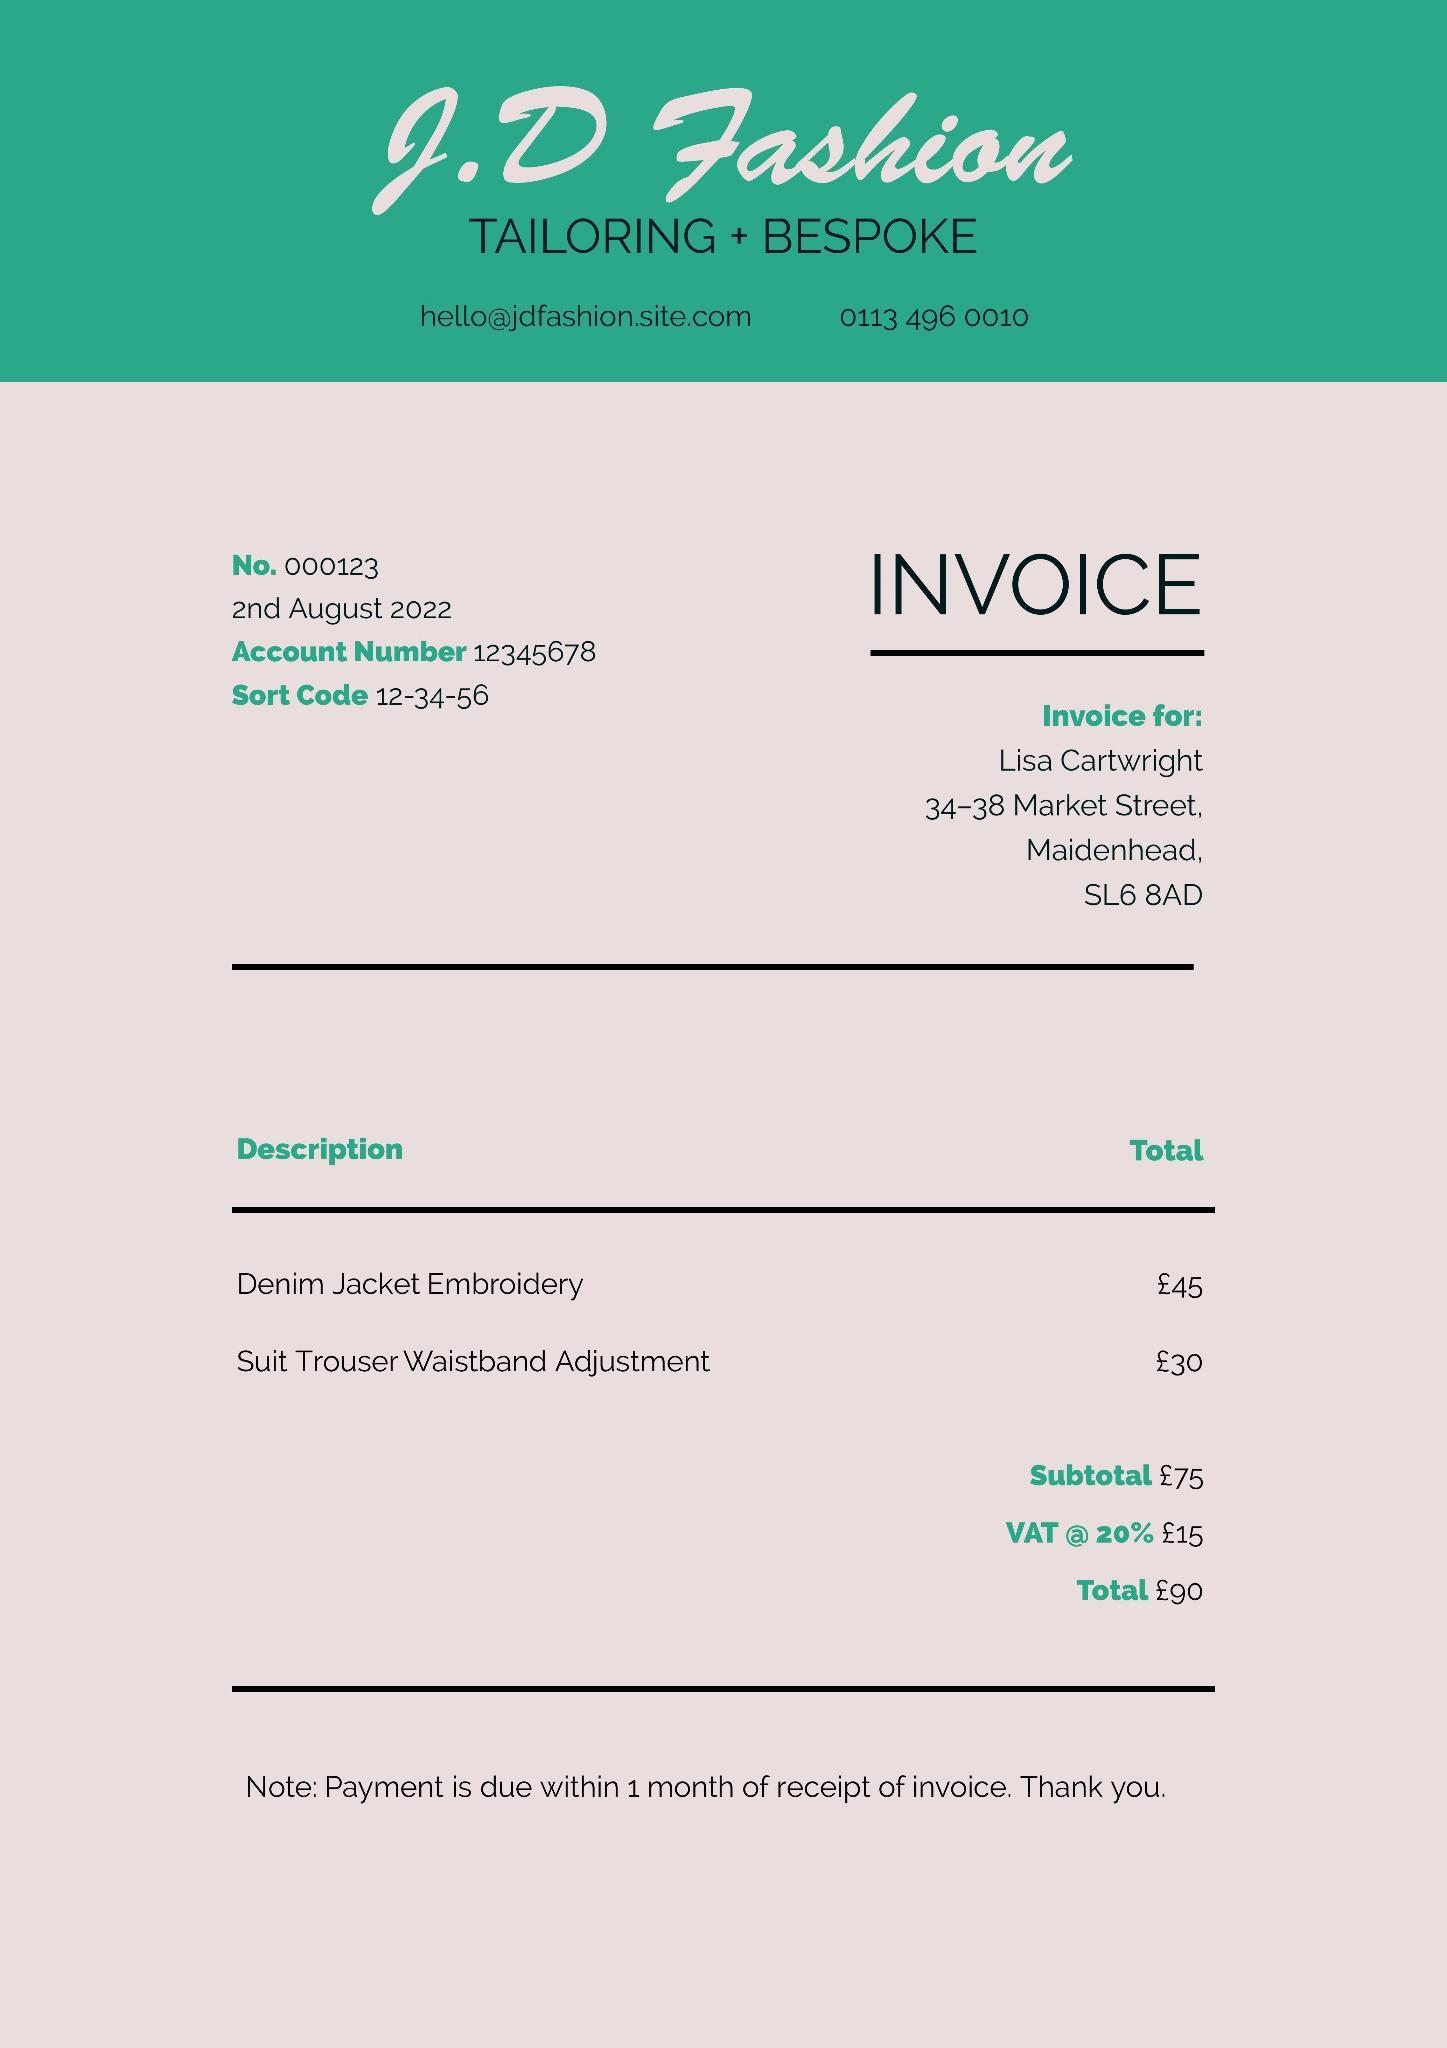ROI: (183, 1113, 1247, 1412), (321, 72, 1131, 272), (900, 689, 1242, 921), (221, 1754, 1184, 1830), (836, 525, 1229, 670), (971, 1439, 1250, 1616), (219, 636, 606, 717), (406, 287, 780, 344), (827, 288, 1052, 344), (224, 543, 399, 589), (216, 593, 457, 625), (387, 562, 396, 570)
